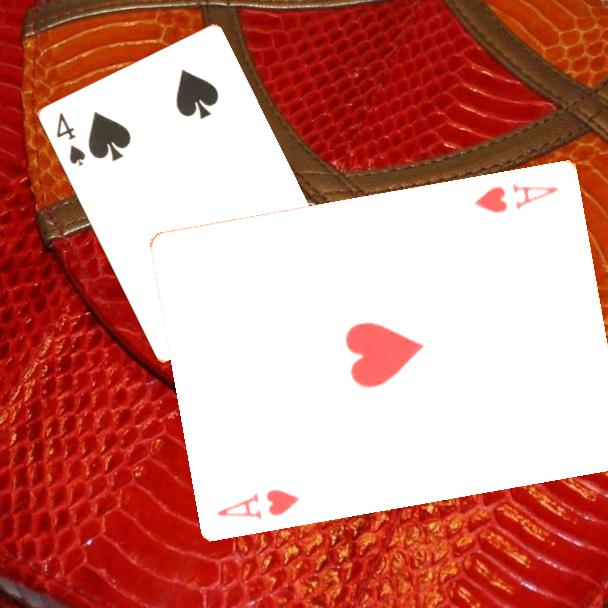h01: (471, 179, 561, 216), (213, 485, 302, 522)
s04: (52, 109, 88, 169)
